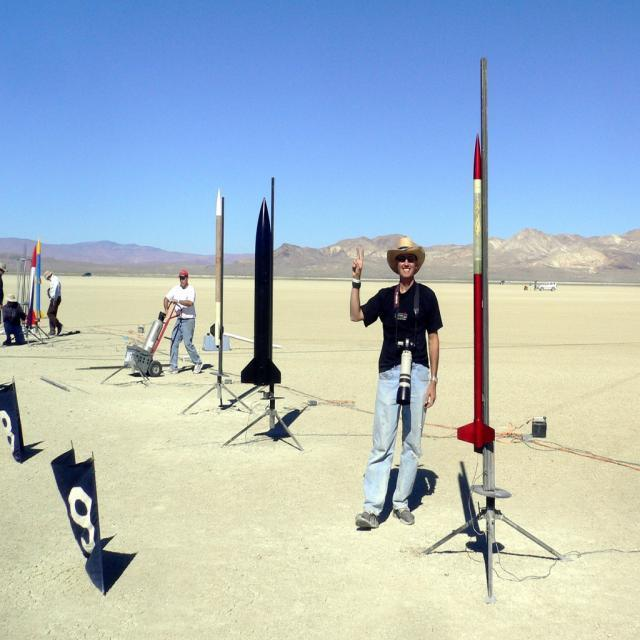missile: (457, 136, 493, 449), (240, 199, 280, 393), (210, 188, 228, 350), (28, 246, 36, 322), (35, 238, 42, 321)
